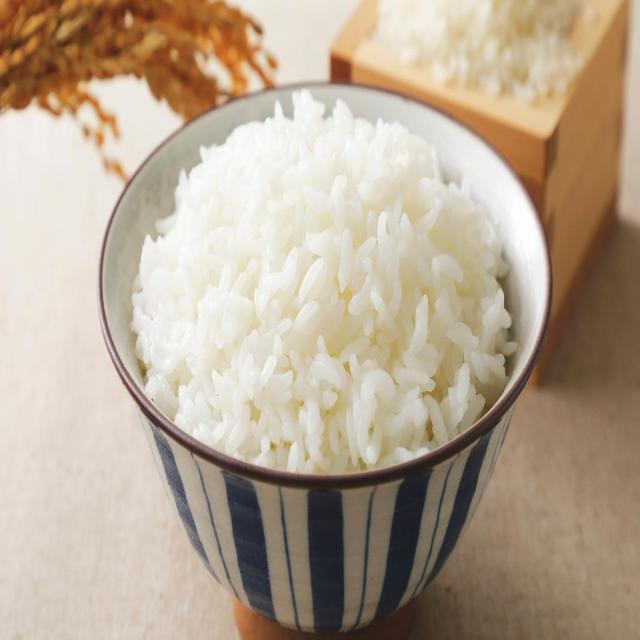rice: (127, 95, 518, 477)
